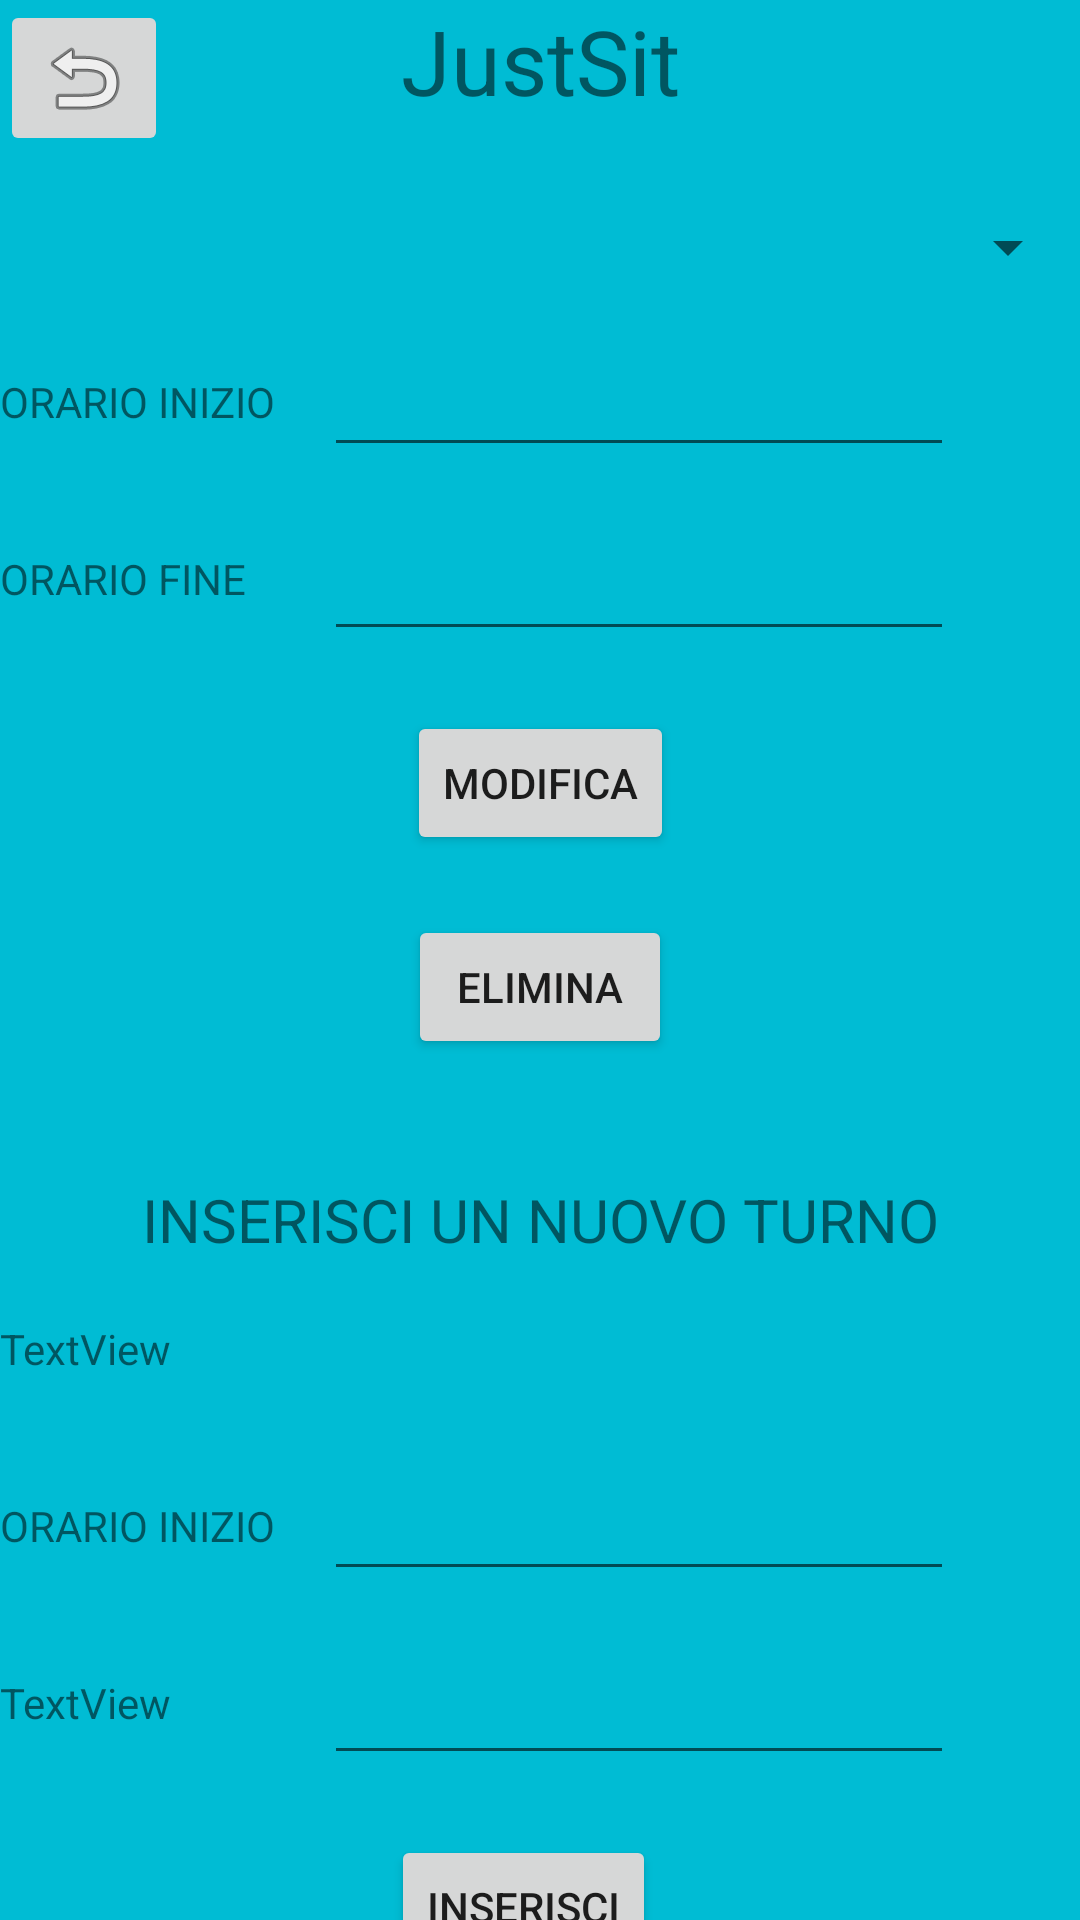

Screen size 1080x1920. Icon name, then its center in pixels as point (x, y):
revert: point (84, 78)
